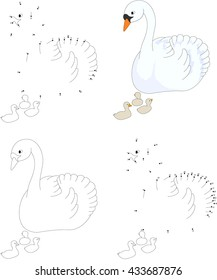bird: (7, 138, 99, 234), (120, 1, 211, 95)
